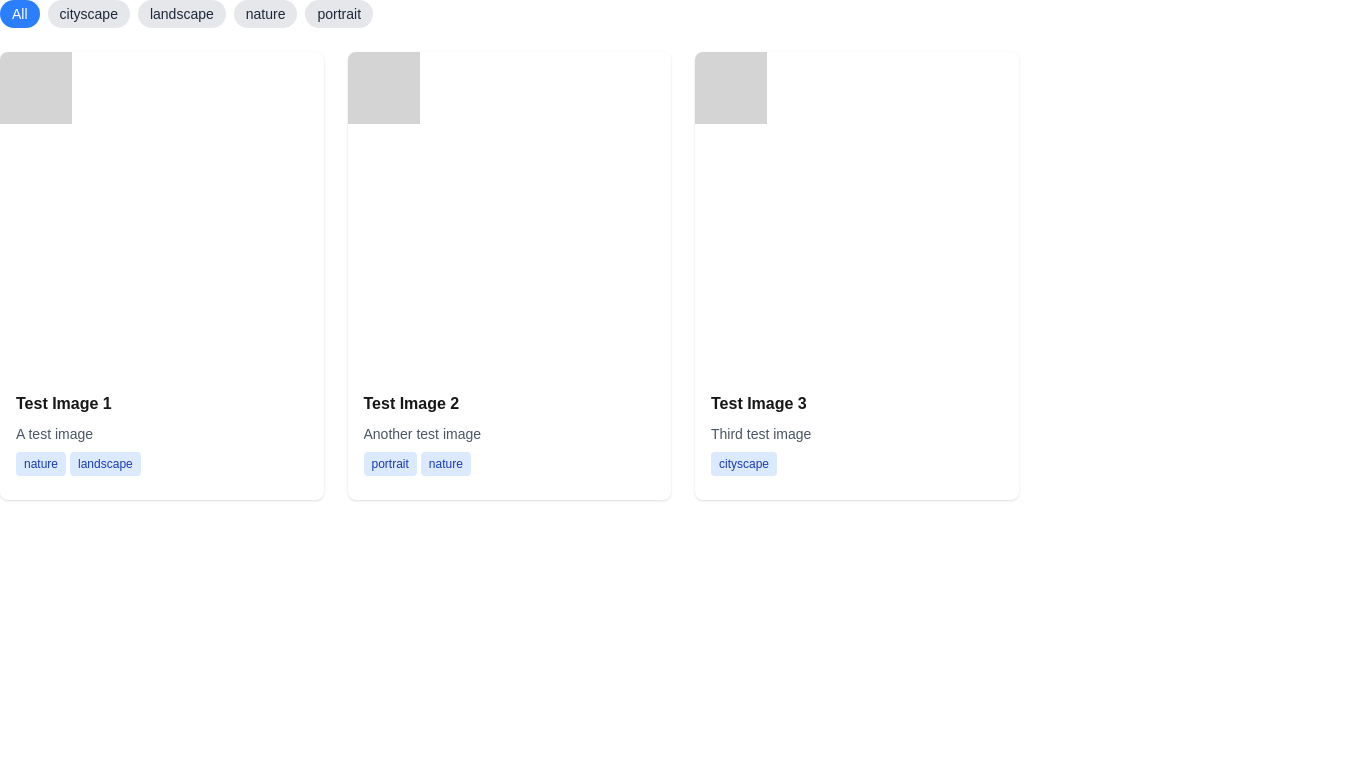
Test: ImageGrid › Image Viewer Modal Integration › closes ImageViewer modal when close button is clicked
Open modal
Step 1. Click the heading "Test Image 1" → (64, 403), box [16,394,112,412]
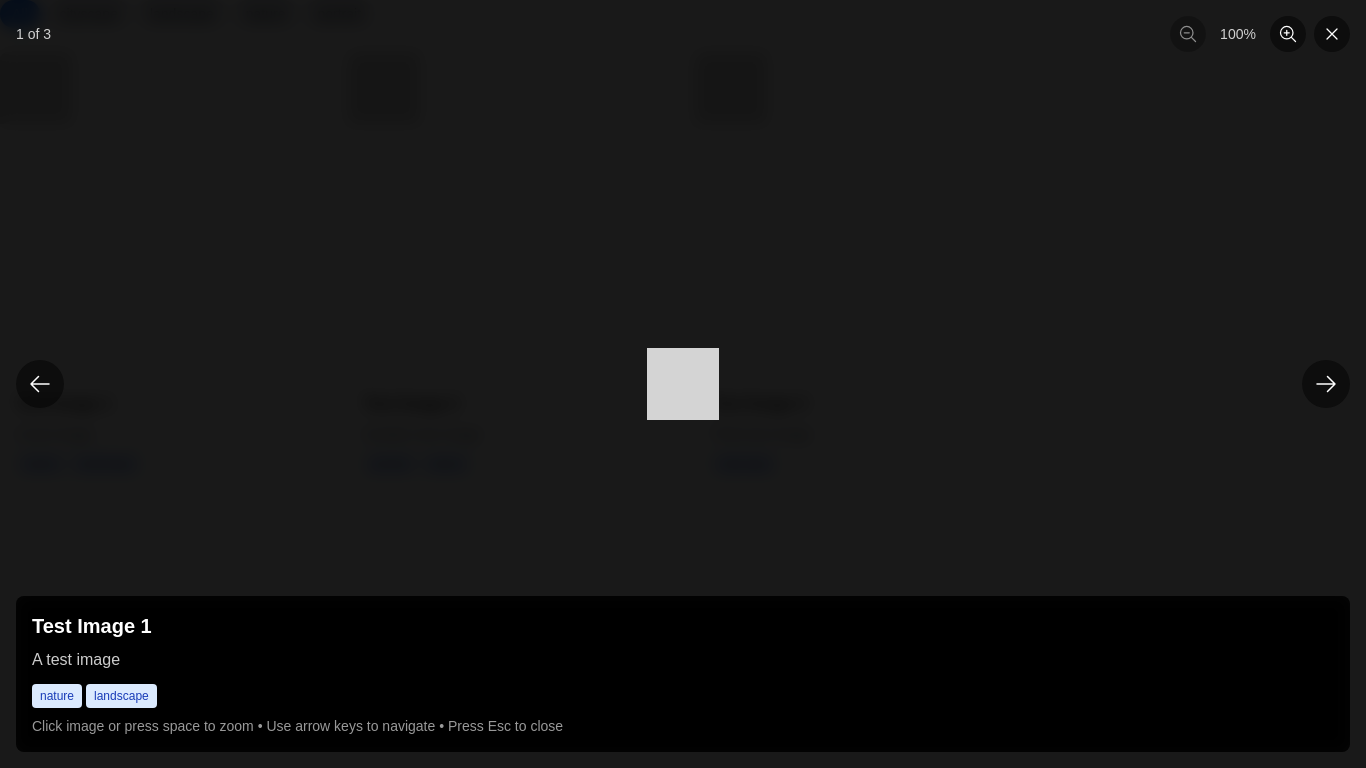
Check: the dialog with test id "image-viewer-modal" is shown
Close modal
Step 2. Click the button with test id "close-modal" → (1332, 34), box [1314,16,1350,52]
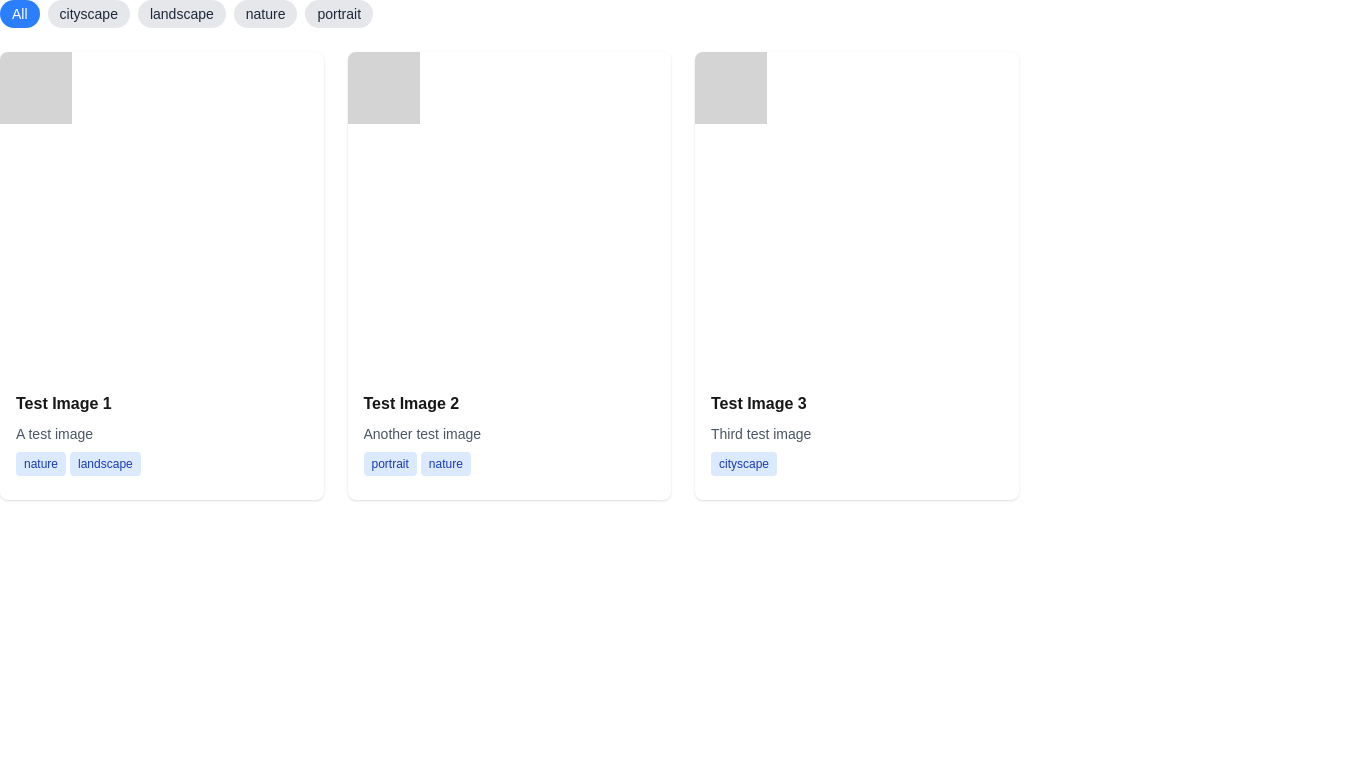
Check: the dialog with test id "image-viewer-modal" is gone
